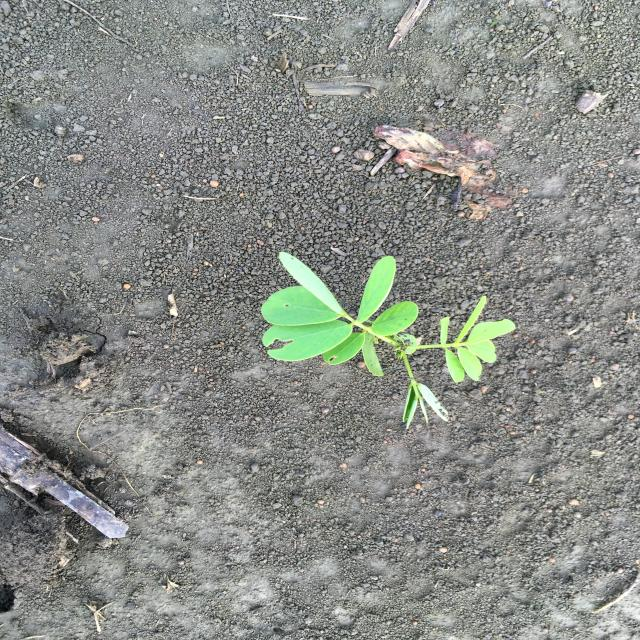Sicklepod: (256, 248, 518, 431)
